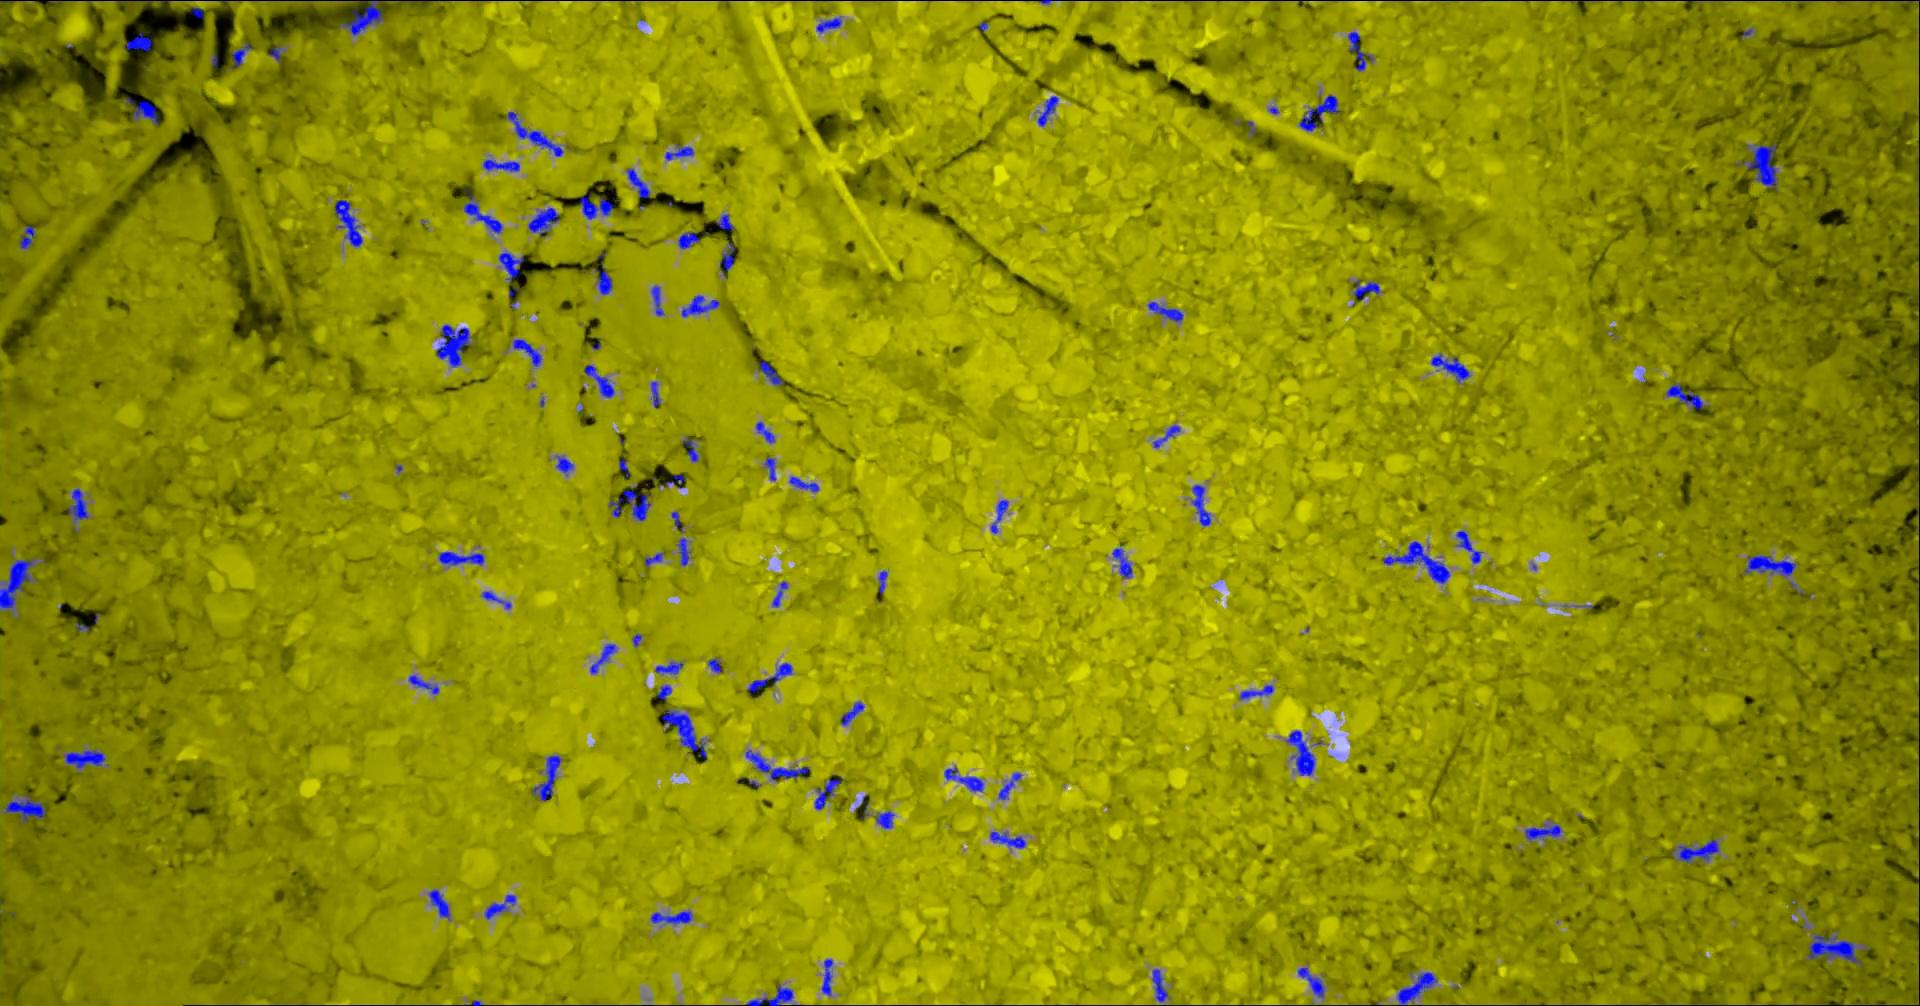ant: (1382, 541, 1449, 583), (505, 111, 563, 156), (662, 709, 706, 761), (745, 749, 809, 781), (1735, 144, 1777, 191), (1807, 934, 1862, 967), (338, 0, 386, 36), (0, 559, 34, 608), (463, 188, 502, 232), (745, 662, 792, 695), (436, 324, 471, 367), (1298, 94, 1338, 131), (1396, 970, 1437, 1005), (531, 754, 561, 800), (1285, 730, 1316, 775), (334, 199, 362, 246), (608, 489, 650, 520), (1430, 353, 1469, 382), (1672, 838, 1719, 862), (3, 795, 44, 822), (1743, 555, 1796, 575), (583, 365, 615, 398), (1347, 30, 1373, 71), (122, 97, 159, 124), (943, 766, 983, 791), (1666, 382, 1702, 410), (745, 984, 792, 1005), (527, 207, 559, 236), (579, 192, 613, 218), (67, 486, 88, 531), (814, 777, 842, 809), (1297, 967, 1324, 997), (1455, 530, 1481, 563), (681, 295, 719, 316), (589, 643, 616, 673), (484, 894, 516, 920), (63, 749, 105, 768), (498, 251, 524, 281), (512, 339, 541, 366), (1191, 484, 1210, 525), (1147, 301, 1183, 321), (626, 168, 649, 198), (757, 359, 783, 385), (427, 889, 450, 918), (1152, 424, 1180, 447), (438, 551, 484, 565), (989, 831, 1025, 848), (1037, 95, 1058, 126), (1111, 547, 1131, 578), (998, 772, 1021, 799), (1150, 968, 1168, 1001), (839, 701, 863, 725), (408, 674, 438, 694), (650, 909, 691, 923), (990, 499, 1007, 533), (1524, 824, 1561, 840), (124, 30, 151, 51), (231, 41, 251, 67), (1352, 279, 1379, 300), (481, 591, 510, 608), (719, 243, 734, 276), (596, 263, 612, 293), (1239, 683, 1272, 699), (664, 144, 693, 160), (483, 159, 519, 171), (789, 476, 818, 492), (756, 420, 775, 442), (654, 661, 683, 674), (772, 580, 787, 607), (650, 285, 663, 316), (676, 537, 690, 565), (822, 958, 832, 995), (658, 474, 684, 488), (817, 17, 841, 32), (677, 231, 698, 248), (682, 439, 698, 461), (19, 225, 34, 248), (875, 810, 894, 828), (556, 455, 573, 475), (715, 213, 734, 230), (643, 553, 664, 567), (670, 511, 683, 532), (764, 456, 775, 480), (877, 569, 888, 593), (858, 794, 869, 818), (267, 44, 279, 62), (650, 381, 659, 406), (657, 683, 670, 699), (707, 658, 721, 672), (618, 459, 629, 478)
